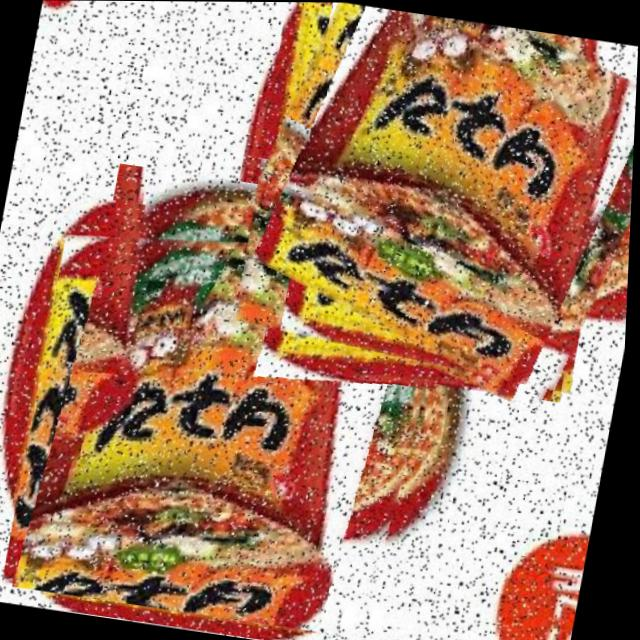Miscellaneous: (4, 194, 465, 640), (222, 1, 640, 402)
